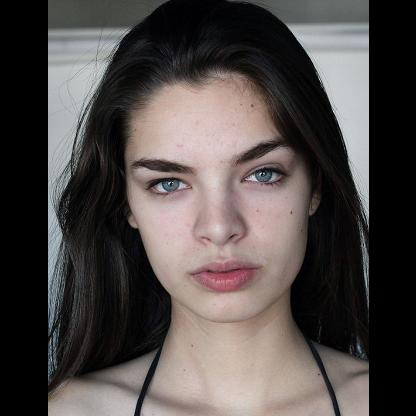Female: (124, 69, 318, 323)
